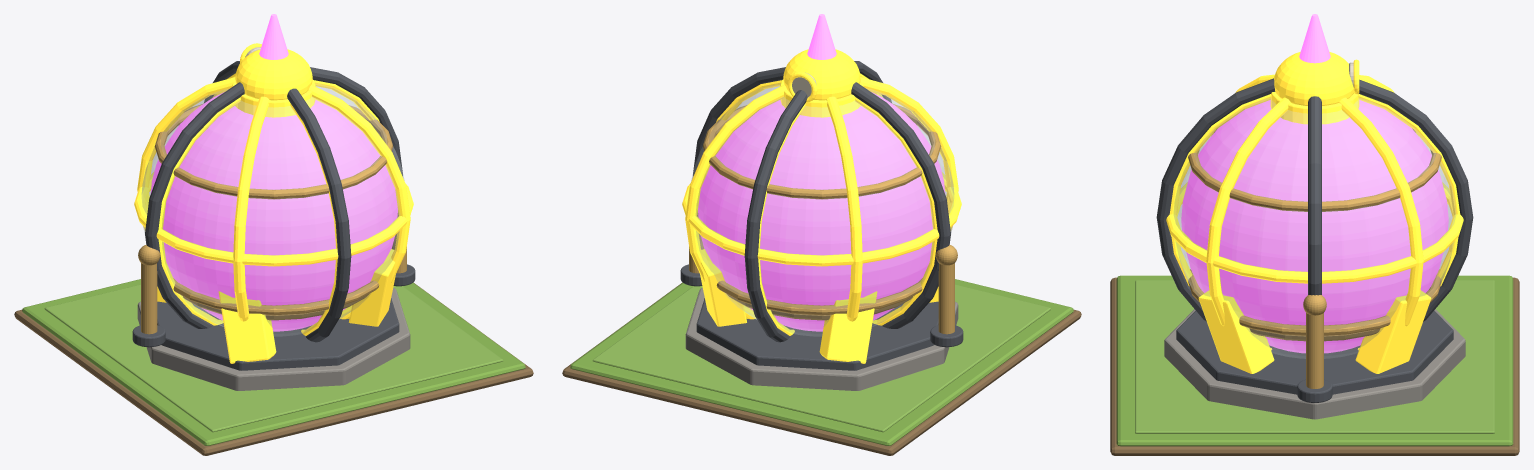
Rendered from elixir_storage_lv7.glb.
3 renders of one model, left to right at view 1: azimuth 30°, elevation 25°; view 2: azimuth 150°, elevation 25°; view 3: azimuth 270°, elevation 25°, orthographic. The views are drawn at different scales.
Visible parts, largest first — view 1: GlassOrb, ElixirCore, Base_Inner, Base_Grass, OctagonalReinforcedBase, StandPlinth, Base_Dirt, GoldenRib_1, ES_ArmorRib_1, EquatorialBrassBand, ES_ArmorRib_0, UpperTropicsBand (+14 smaller); view 2: GlassOrb, ElixirCore, Base_Inner, Base_Grass, OctagonalReinforcedBase, StandPlinth, Base_Dirt, GoldenRib_0, ES_ArmorRib_0, EquatorialBrassBand, ES_ArmorRib_1, UpperTropicsBand (+14 smaller); view 3: GlassOrb, ElixirCore, Base_Inner, Base_Grass, OctagonalReinforcedBase, StandPlinth, Base_Dirt, ES_ArmorRib_1, EquatorialBrassBand, ES_ArmorRib_3, TopPressureDome, GoldenRib_0 (+14 smaller).
Part boxes in pixels (x1,y1,x2,y2): GlassOrb: [141, 83, 404, 336]; ElixirCore: [150, 92, 397, 331]; Base_Inner: [44, 284, 503, 432]; Base_Grass: [22, 279, 525, 445]; OctagonalReinforcedBase: [157, 298, 399, 370]; StandPlinth: [137, 288, 410, 390]; Base_Dirt: [14, 282, 533, 455]; GoldenRib_1: [137, 77, 410, 319]; ES_ArmorRib_1: [204, 61, 351, 338]; EquatorialBrassBand: [134, 172, 413, 266]; ES_ArmorRib_0: [145, 68, 402, 326]; UpperTropicsBand: [154, 104, 393, 199]; GlassOrb: [691, 83, 954, 336]; ElixirCore: [698, 92, 945, 331]; Base_Inner: [592, 284, 1051, 432]; Base_Grass: [570, 279, 1073, 445]; OctagonalReinforcedBase: [696, 298, 938, 370]; StandPlinth: [685, 288, 958, 390]; Base_Dirt: [562, 282, 1081, 455]; GoldenRib_0: [685, 77, 958, 319]; ES_ArmorRib_0: [702, 72, 950, 328]; EquatorialBrassBand: [682, 172, 961, 266]; ES_ArmorRib_1: [744, 61, 891, 342]; UpperTropicsBand: [702, 104, 941, 199]; GlassOrb: [1174, 97, 1455, 358]; ElixirCore: [1181, 100, 1448, 353]; Base_Inner: [1135, 280, 1494, 433]; Base_Grass: [1116, 275, 1513, 446]; OctagonalReinforcedBase: [1176, 310, 1453, 394]; StandPlinth: [1164, 309, 1465, 419]; Base_Dirt: [1110, 277, 1519, 455]; ES_ArmorRib_1: [1156, 78, 1473, 321]; EquatorialBrassBand: [1166, 182, 1463, 283]; ES_ArmorRib_3: [1156, 79, 1473, 321]; TopPressureDome: [1274, 52, 1353, 105]; GoldenRib_0: [1211, 74, 1423, 350].
Size of the model in its own units: 2.76 by 2.65 by 2.76.
